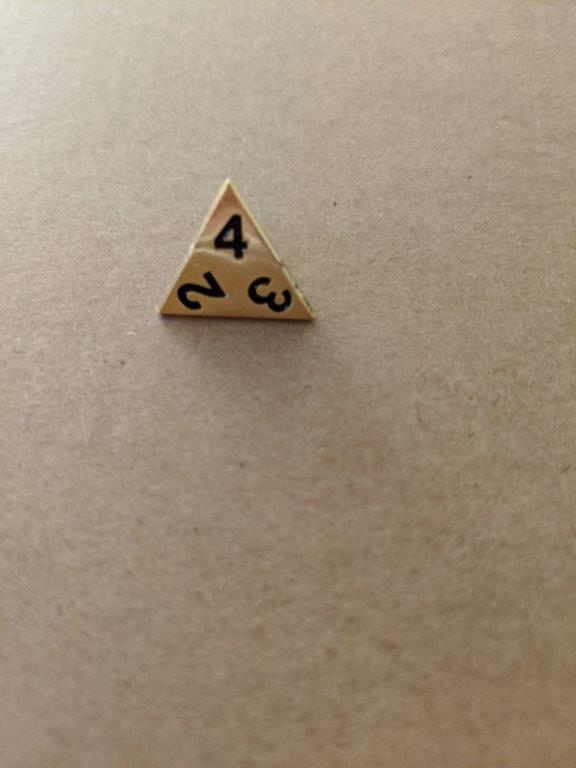d4-4: (153, 174, 322, 337)
